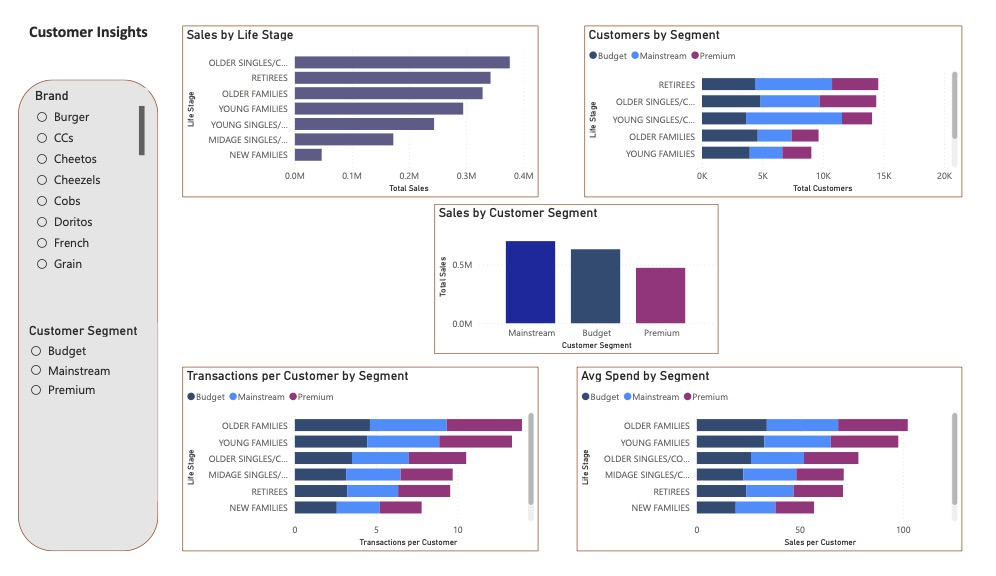

This screenshot's page, from the dashboard's own definition file:
{"tool":"powerbi","page":{"name":"Customer Insights","canvas":[1280,720],"ordinal":1},"visuals":[{"type":"textbox","box":[11.2,0,243.8,53.8],"z":0},{"type":"textbox","box":[20,97.1,1251.4,48.6],"z":1000},{"type":"PBI_CV_7B952816_A48F_49B4_9E13_15E3BB2C0337","title":"Total Customers","fields":{"Values":["data_clean.Total Customers"]},"box":[20,160,292.9,61.4],"z":2000},{"type":"advanceCardE03760C5AB684758B56AA29F9E6C257B","fields":{"mainMeasure":["data_clean.Insight Mainstream"]},"box":[20,221.4,292.9,41.4],"z":3000},{"type":"card","title":"Avg Spend per Customer","fields":{"Values":["data_clean.Avg Spend Per Customer"]},"box":[319.8,159.3,320.9,61.6],"z":4000},{"type":"barChart","title":"Sales by Life Stage","fields":{"Category":["data_clean.lifestage"],"Y":["data_clean.Total Sales"]},"box":[702.9,338.6,567.1,171.4],"z":5000},{"type":"card","title":"Total Transaction","fields":{"Values":["data_clean.Total Transactions"]},"box":[961.6,159.3,309.3,61.6],"z":6000},{"type":"advanceCardE03760C5AB684758B56AA29F9E6C257B","fields":{"mainMeasure":["data_clean.Insight Avg Spend"]},"box":[318.6,221.4,321.4,41.4],"z":7000},{"type":"advanceCardE03760C5AB684758B56AA29F9E6C257B","title":"Top Life Stage","fields":{"mainMeasure":["data_clean.Top Lifestage"]},"box":[652.3,159.3,300,61.6],"z":8000},{"type":"advanceCardE03760C5AB684758B56AA29F9E6C257B","title":"Total Transaction","fields":{"mainMeasure":["data_clean.Insight Top Lifestage"]},"box":[652.9,221.4,298.6,41.4],"z":9000},{"type":"advanceCardE03760C5AB684758B56AA29F9E6C257B","title":"Total Transaction","fields":{"mainMeasure":["data_clean.Insight Transcations"]},"box":[961.4,221.4,310,41.4],"z":10000},{"type":"textbox","box":[736,303.5,450,34.9],"z":11000},{"type":"clusteredBarChart","title":"Avg Spend by Segment","fields":{"Category":["data_clean.premium_customer"],"Y":["data_clean.Avg Spend Per Customer"]},"box":[20,321.4,581.4,152.9],"z":12000},{"type":"advanceCardE03760C5AB684758B56AA29F9E6C257B","fields":{"mainMeasure":["data_clean.Insight sales by lifestage"]},"box":[703.5,509.3,539.5,30.2],"z":13000},{"type":"textbox","box":[65.7,285.7,512.9,35.7],"z":14000},{"type":"textbox","box":[88.8,591.2,551.2,42.5],"z":15000},{"type":"clusteredBarChart","title":"Transactions per Customer","fields":{"Category":["data_clean.lifestage"],"Y":["data_clean.Transactions per Customer"]},"box":[20,510,577.1,174.3],"z":16000},{"type":"advanceCardE03760C5AB684758B56AA29F9E6C257B","fields":{"mainMeasure":["data_clean.Insight Txn per Customer"]},"box":[11.2,683.8,558.8,36.2],"z":17000},{"type":"textbox","box":[39.5,474.4,559.3,34.9],"z":18000},{"type":"textbox","box":[88.4,509.3,391.9,30.2],"z":19000},{"type":"textbox","box":[702.9,540,567.1,180],"z":20000},{"type":"textbox","box":[937.5,0,318.8,53.8],"z":21000},{"type":"textbox","box":[544.8,46.7,234.6,46.7],"z":22000},{"type":"textbox","box":[263.5,46.7,281.3,46.7],"z":23000},{"type":"textbox","box":[20.6,46.7,242.9,46.7],"z":24000},{"type":"textbox","box":[779.4,46.7,220.9,46.7],"z":25000},{"type":"textbox","box":[1000.3,46.7,270.3,46.7],"z":26000}]}

Visuals, with their boxes in screenshot pixels (x1, y1, x2, y2), scaled from the page's 1280x720 canvas onto the 996x576 screenshot:
textbox: x1=9 y1=0 x2=198 y2=43
textbox: x1=16 y1=78 x2=989 y2=117
"Total Customers" PBI_CV_7B952816_A48F_49B4_9E13_15E3BB2C0337: x1=16 y1=128 x2=243 y2=177
advanceCardE03760C5AB684758B56AA29F9E6C257B - data_clean.Insight Mainstream: x1=16 y1=177 x2=243 y2=210
"Avg Spend per Customer" card: x1=249 y1=127 x2=499 y2=177
"Sales by Life Stage" barChart: x1=547 y1=271 x2=988 y2=408
"Total Transaction" card: x1=748 y1=127 x2=989 y2=177
advanceCardE03760C5AB684758B56AA29F9E6C257B - data_clean.Insight Avg Spend: x1=248 y1=177 x2=498 y2=210
"Top Life Stage" advanceCardE03760C5AB684758B56AA29F9E6C257B: x1=508 y1=127 x2=741 y2=177
"Total Transaction" advanceCardE03760C5AB684758B56AA29F9E6C257B: x1=508 y1=177 x2=740 y2=210
"Total Transaction" advanceCardE03760C5AB684758B56AA29F9E6C257B: x1=748 y1=177 x2=989 y2=210
textbox: x1=573 y1=243 x2=923 y2=271
"Avg Spend by Segment" clusteredBarChart: x1=16 y1=257 x2=468 y2=379
advanceCardE03760C5AB684758B56AA29F9E6C257B - data_clean.Insight sales by lifestage: x1=547 y1=407 x2=967 y2=432
textbox: x1=51 y1=229 x2=450 y2=257
textbox: x1=69 y1=473 x2=498 y2=507
"Transactions per Customer" clusteredBarChart: x1=16 y1=408 x2=465 y2=547
advanceCardE03760C5AB684758B56AA29F9E6C257B - data_clean.Insight Txn per Customer: x1=9 y1=547 x2=444 y2=575
textbox: x1=31 y1=380 x2=466 y2=407
textbox: x1=69 y1=407 x2=374 y2=432
textbox: x1=547 y1=432 x2=988 y2=575
textbox: x1=729 y1=0 x2=978 y2=43
textbox: x1=424 y1=37 x2=606 y2=75
textbox: x1=205 y1=37 x2=424 y2=75
textbox: x1=16 y1=37 x2=205 y2=75
textbox: x1=606 y1=37 x2=778 y2=75
textbox: x1=778 y1=37 x2=989 y2=75
